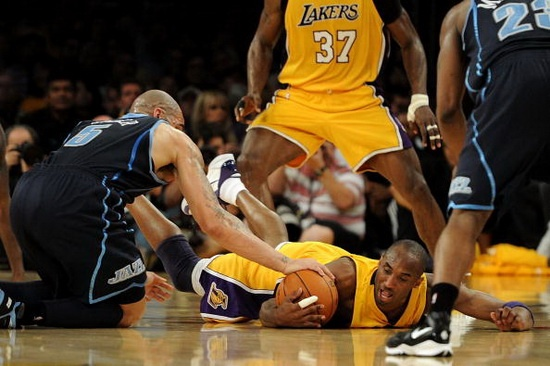falling: (128, 138, 532, 341)
